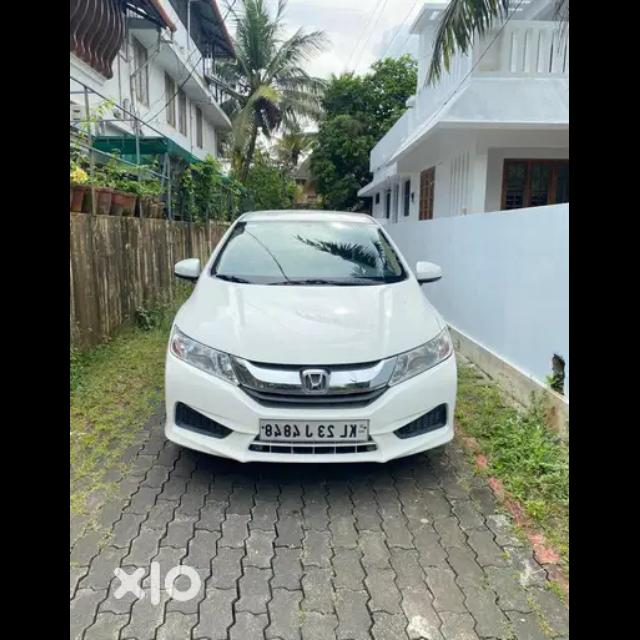vehicles: (168, 210, 456, 462)
